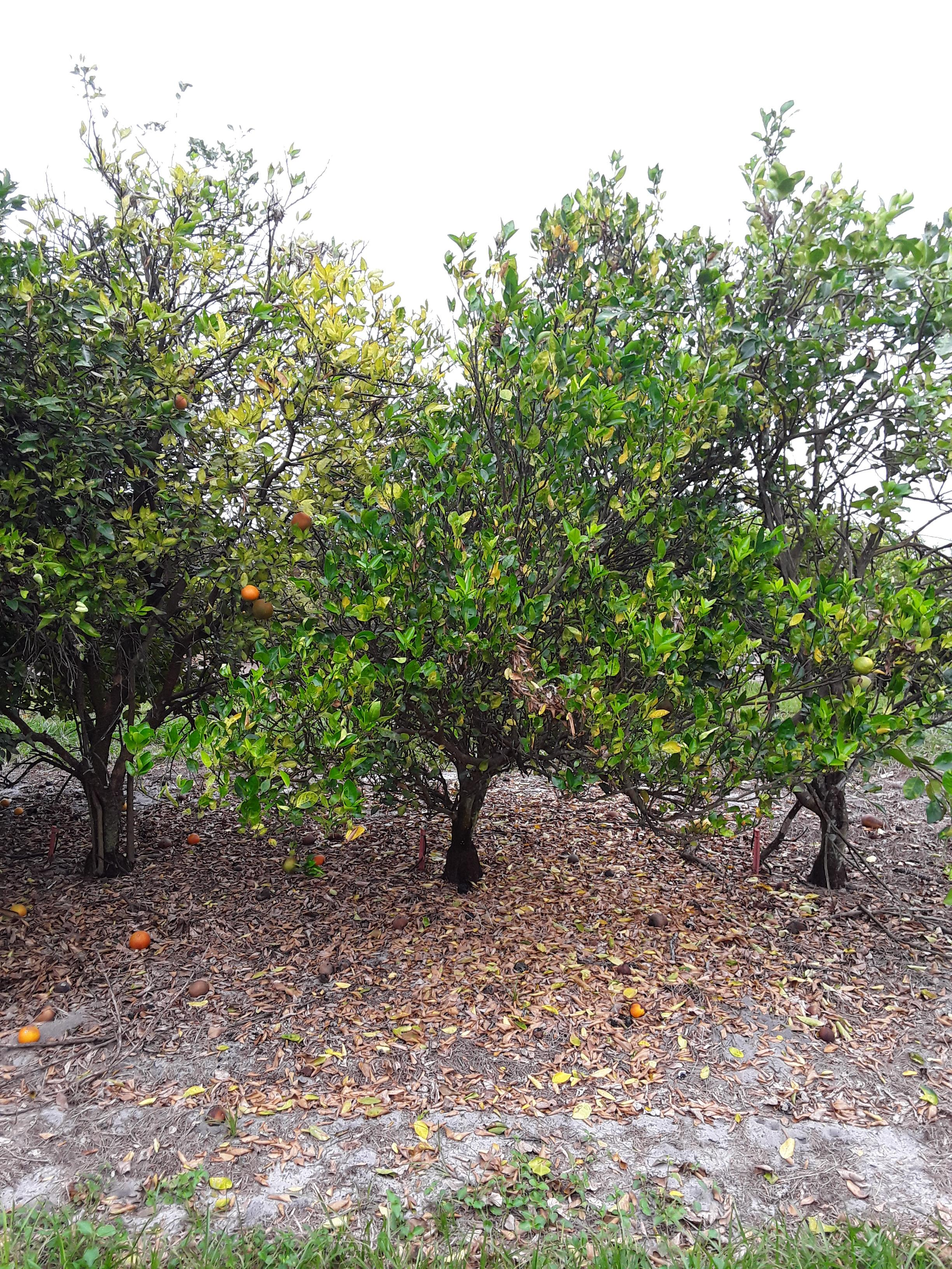fruit_on_ground: (846, 675, 874, 692), (253, 599, 273, 620), (853, 656, 875, 674), (291, 513, 312, 531), (656, 699, 674, 717), (241, 585, 259, 601), (173, 393, 189, 410)
fruit_on_tree: (128, 929, 152, 950), (33, 1004, 56, 1024), (17, 1025, 40, 1044), (206, 1107, 226, 1127), (861, 813, 885, 829), (188, 981, 209, 998), (282, 856, 299, 873), (629, 1003, 647, 1019), (649, 913, 668, 928), (819, 1026, 836, 1042), (10, 903, 28, 918), (392, 916, 408, 930), (319, 961, 334, 975), (53, 981, 70, 993), (187, 832, 201, 846), (312, 854, 326, 867), (617, 963, 631, 976), (256, 888, 271, 900), (302, 834, 316, 846), (338, 959, 352, 971), (158, 838, 173, 849), (623, 988, 639, 998), (567, 854, 580, 864), (318, 974, 330, 984), (13, 807, 24, 816), (604, 869, 615, 878), (606, 810, 618, 818), (1, 799, 10, 808), (119, 802, 128, 811)
